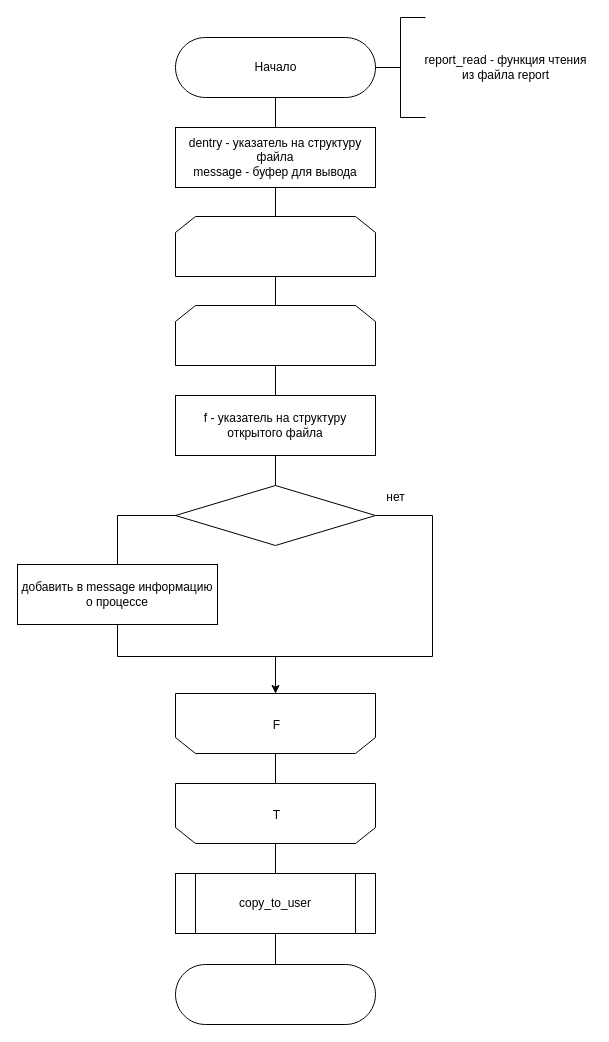
The diagram is 609 pixels wide and 1042 high, and some of its shapes have lost their labels. The shapes that lost their labels are listed below. From the top down, each one's centre as x and y in pixels, then its label:
At [275,246]: "T, пока не проверили все процессы".
At [275,335]: "F, пока не проверили все открытые файлы процесса".
At [275,515]: "f->f_path.dentry == dentry".
At [275,994]: "Конец".
